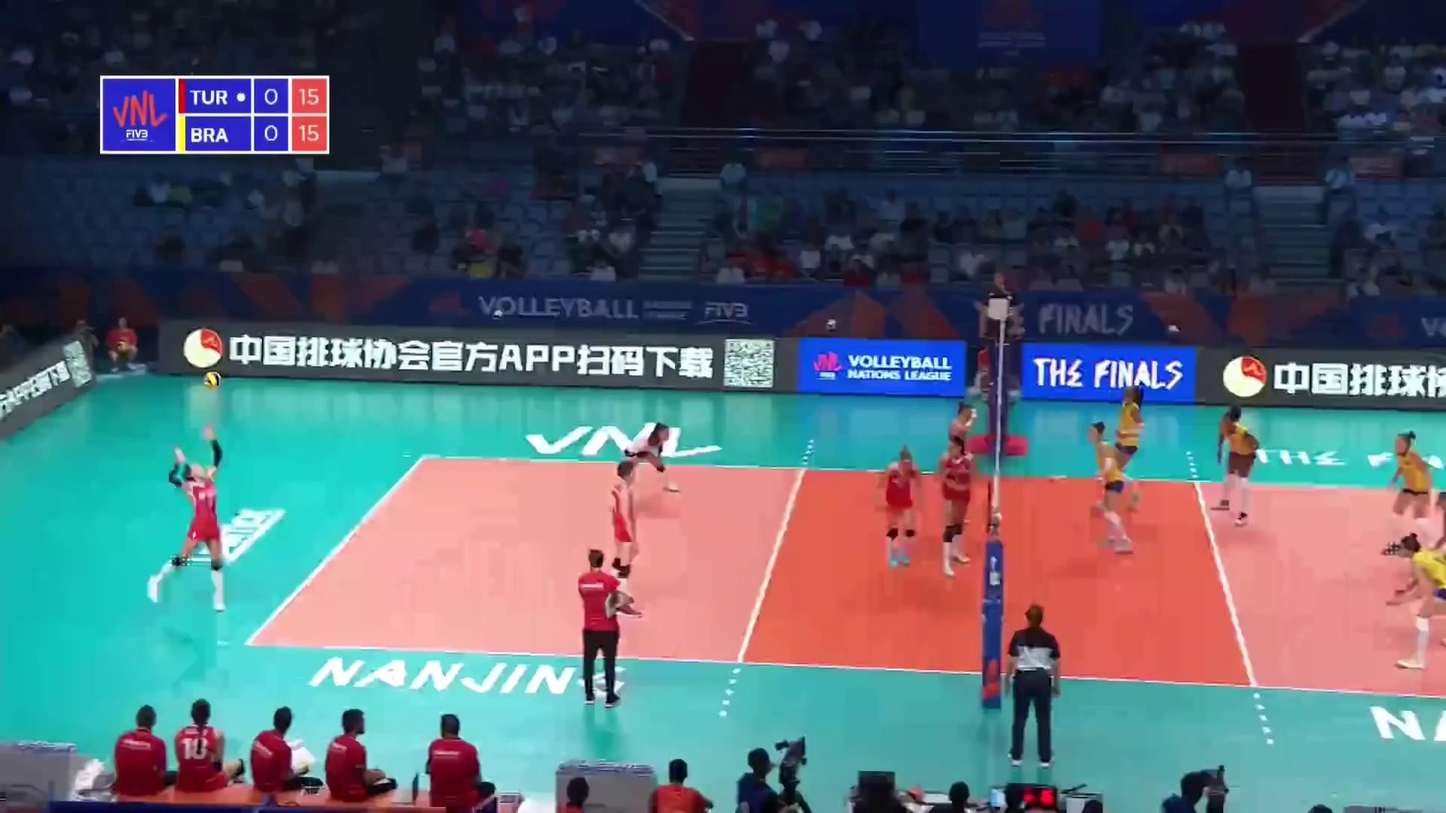player: (146, 427, 230, 612), (1385, 536, 1446, 671), (1381, 431, 1432, 556), (604, 462, 644, 620), (1213, 407, 1262, 526), (877, 448, 922, 572), (1104, 384, 1146, 515), (1090, 422, 1131, 552), (937, 441, 972, 577), (616, 424, 680, 495), (947, 403, 977, 534)
refree: (1003, 607, 1061, 761), (982, 272, 1016, 362)
